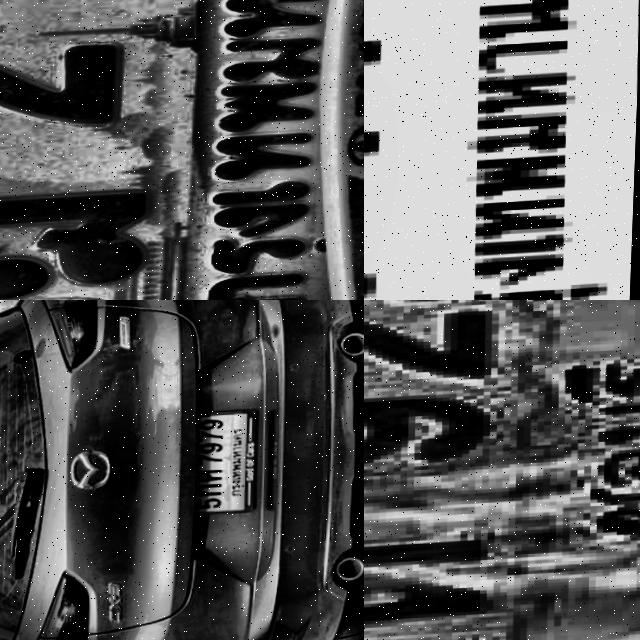license-plate: (0, 0, 364, 300), (364, 300, 640, 640), (364, 0, 640, 300), (176, 400, 270, 527)
